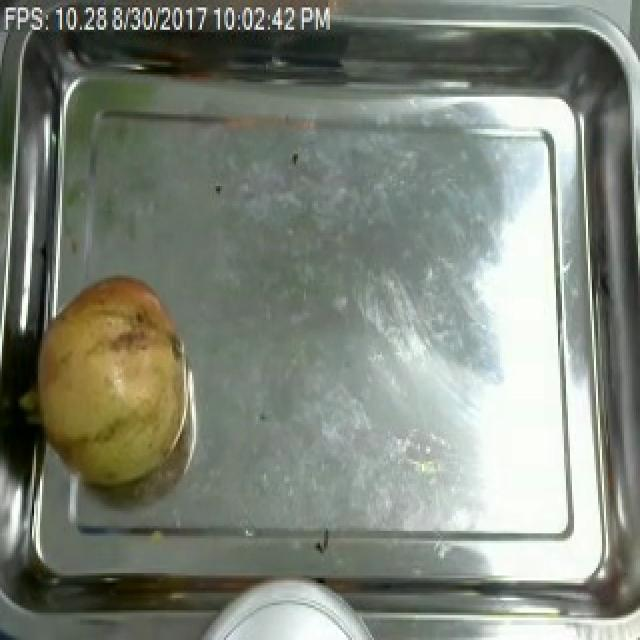fruit: (26, 266, 202, 498)
